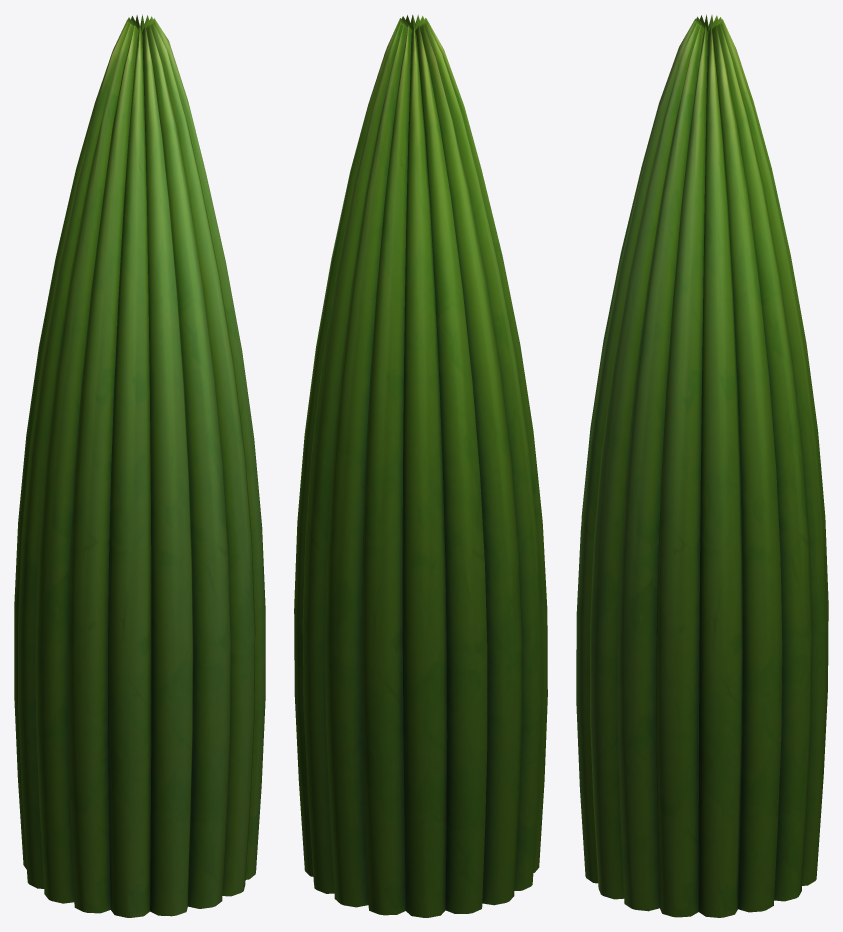
File: DE_Cactus_24.fbx
3 views of the same model, side by side, from view 1: azimuth 30°, elevation 25°; view 2: azimuth 150°, elevation 25°; view 3: azimuth 270°, elevation 25° (orthographic).
Parts seen in each view (by area): view 1: DE_Cactus_24; view 2: DE_Cactus_24; view 3: DE_Cactus_24.
Part boxes in pixels (<box>): DE_Cactus_24: <box>14,14,265,917</box>; DE_Cactus_24: <box>294,14,547,917</box>; DE_Cactus_24: <box>576,14,828,917</box>.
Bounding box in the file's own units: 2.12 × 7.88 × 2.12.
